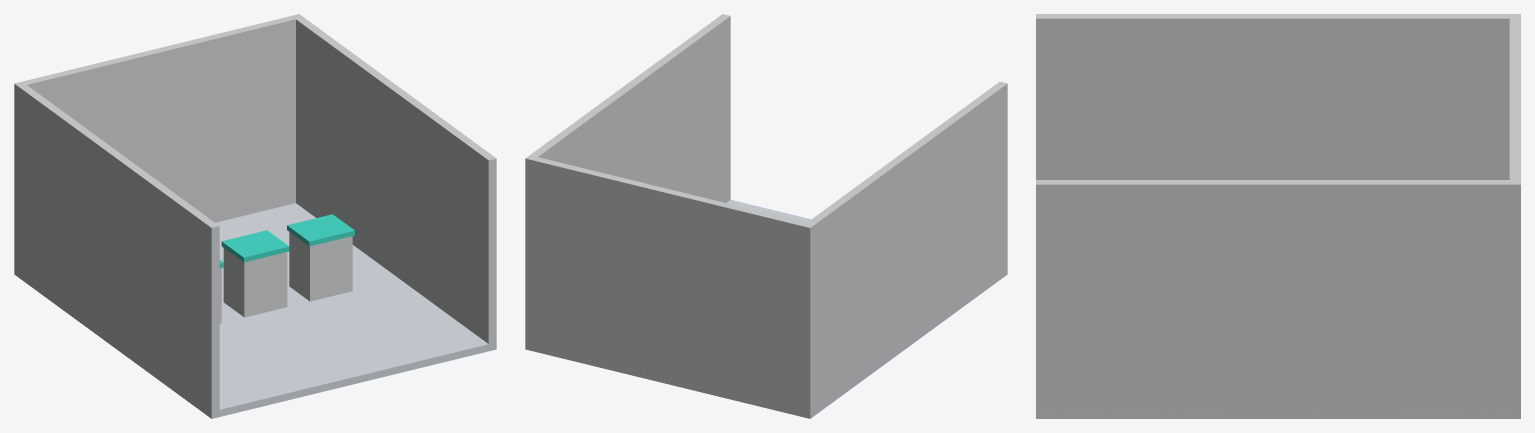
3 renders of one model, left to right at view 1: azimuth 30°, elevation 25°; view 2: azimuth 150°, elevation 25°; view 3: azimuth 270°, elevation 25°, orthographic. The views are drawn at different scales.
Parts seen in each view (by area): view 1: Exhibition Booth Concept; view 2: Exhibition Booth Concept; view 3: Exhibition Booth Concept.
Boxes of the visible parts, x1=… form: Exhibition Booth Concept: x1=14, y1=14, x2=496, y2=418; Exhibition Booth Concept: x1=525, y1=14, x2=1007, y2=418; Exhibition Booth Concept: x1=1036, y1=14, x2=1520, y2=418.
Bounding box in the file's own units: 5 × 3.2 × 6.
